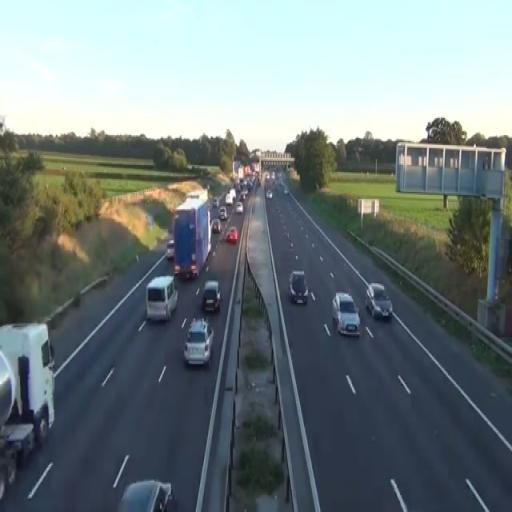Car: (117, 479, 174, 511), (182, 318, 214, 368), (146, 276, 178, 323), (332, 293, 361, 337), (365, 282, 393, 321), (289, 270, 308, 305), (202, 280, 222, 313)
Truck: (0, 322, 56, 500), (173, 189, 212, 280)
